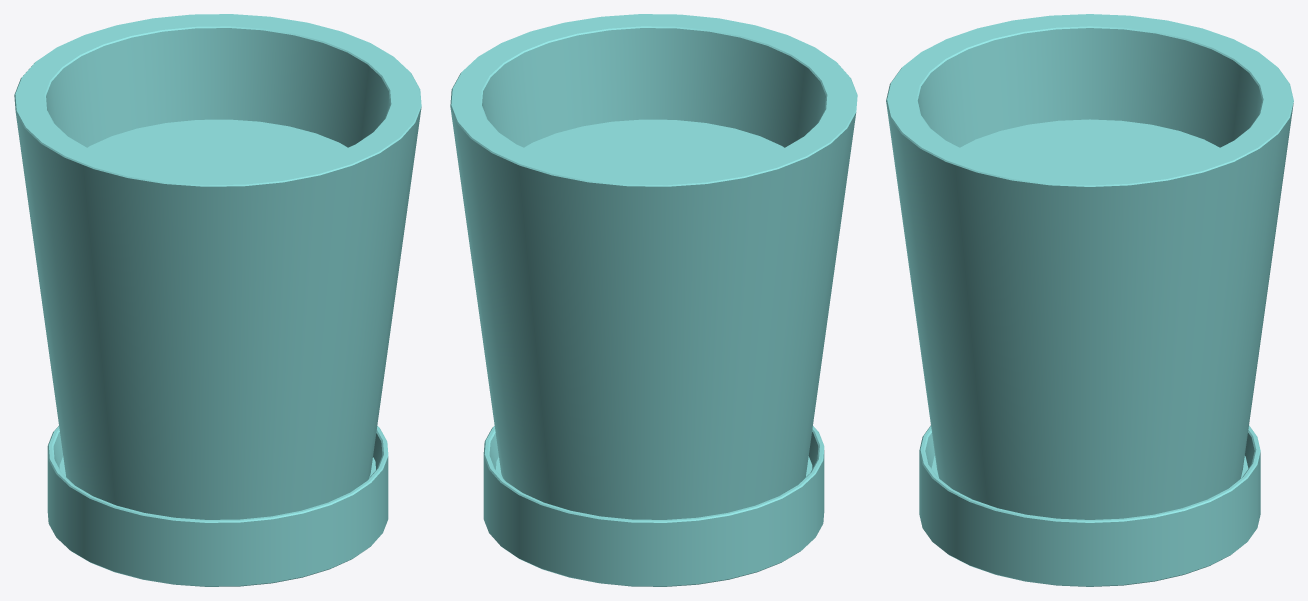
The model's file is donica_niebieska.fbx.
The picture shows the model from 3 angles, left to right: view 1: azimuth 30°, elevation 25°; view 2: azimuth 150°, elevation 25°; view 3: azimuth 270°, elevation 25°; orthographic projection.
Visible parts, largest first — view 1: donica.005; view 2: donica.005; view 3: donica.005.
Part boxes in pixels (<box>): donica.005: <box>14,14,421,586</box>; donica.005: <box>450,14,857,586</box>; donica.005: <box>886,14,1293,586</box>.
Size of the model in its own units: 141 by 162 by 141.
